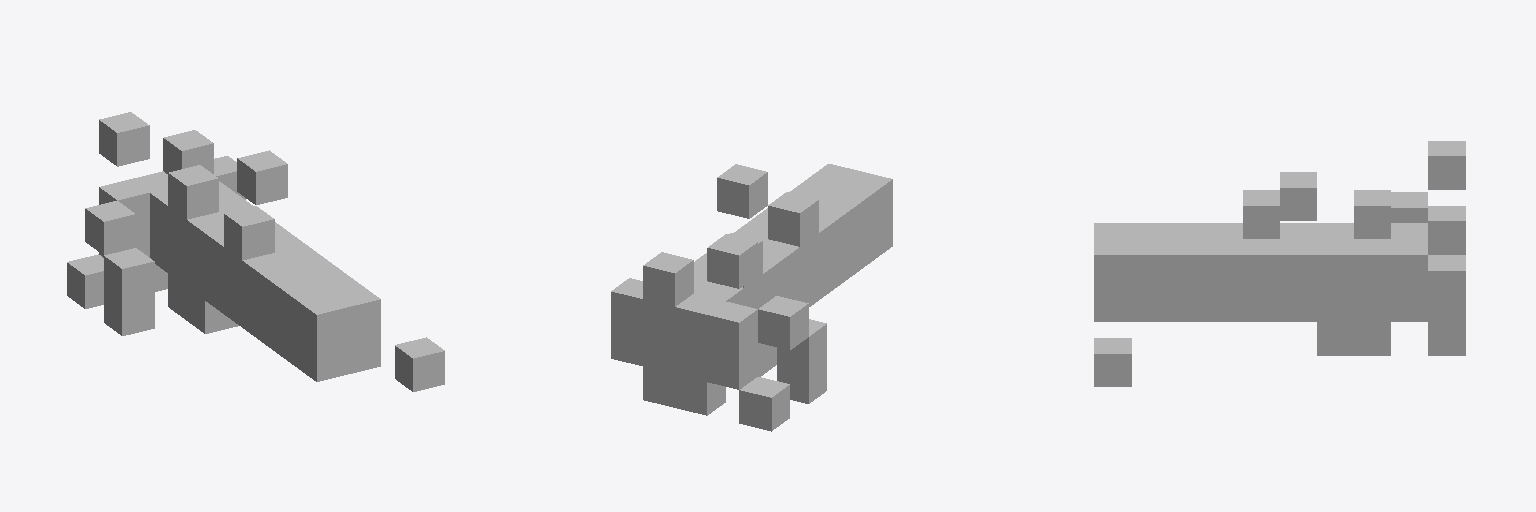
Rendered from environ-cannon-broken-2.obj.
3 renders of one model, left to right at view 1: azimuth 30°, elevation 25°; view 2: azimuth 150°, elevation 25°; view 3: azimuth 270°, elevation 25°, orthographic.
Parts seen in each view (by area): view 1: cannon-broken-2; view 2: cannon-broken-2; view 3: cannon-broken-2.
Boxes of the visible parts, x1=… form: cannon-broken-2: x1=67, y1=112, x2=444, y2=391; cannon-broken-2: x1=611, y1=164, x2=892, y2=431; cannon-broken-2: x1=1094, y1=141, x2=1465, y2=386.
Size of the model in its own units: 0.6 by 0.5 by 1.